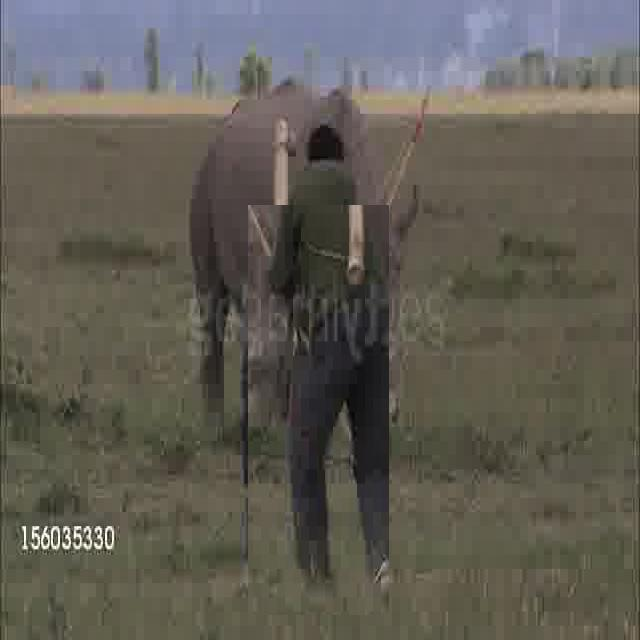poacher: (248, 205, 389, 615)
weapon: (271, 170, 309, 286)
